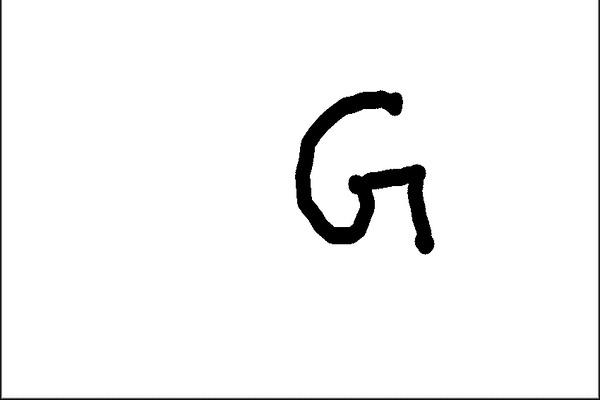G: (289, 82, 443, 259)
